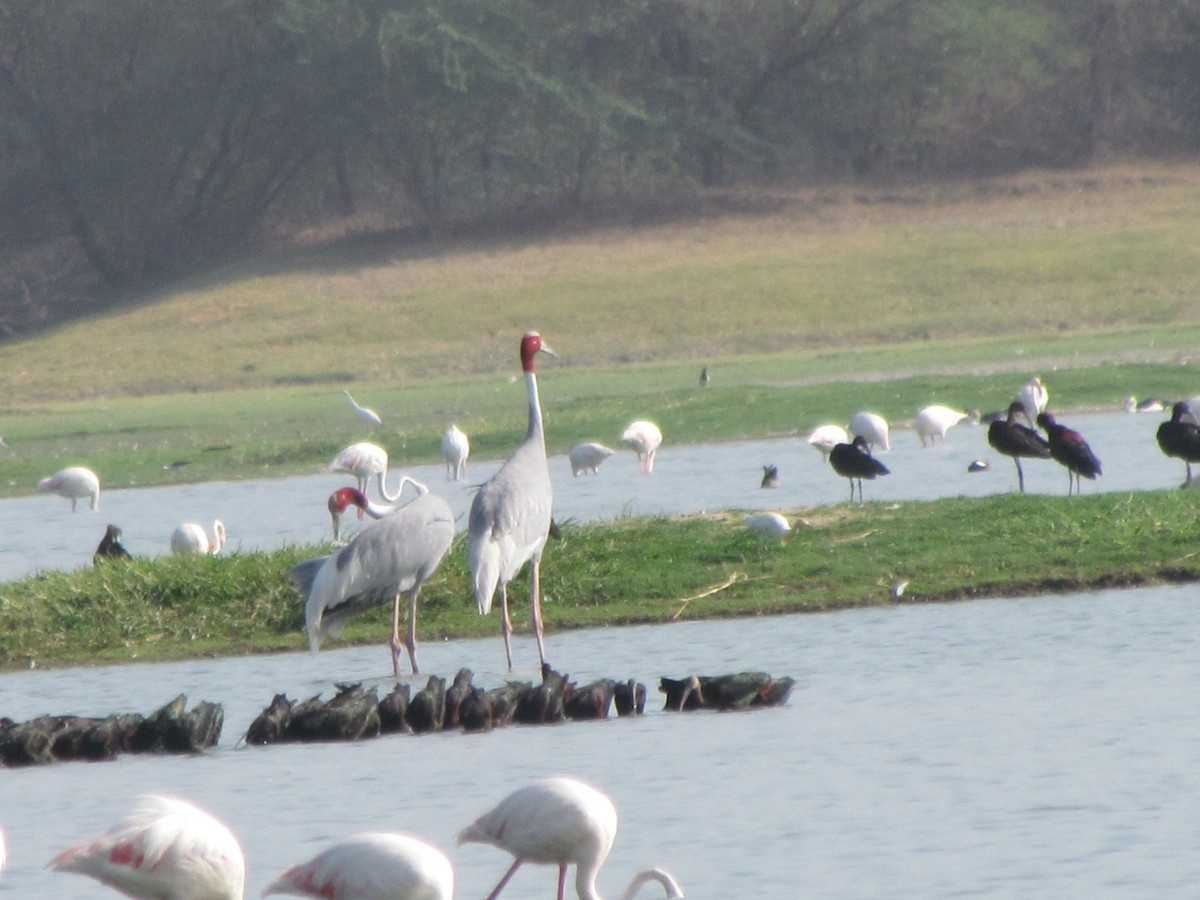crane: (474, 325, 561, 674), (310, 484, 456, 667)
